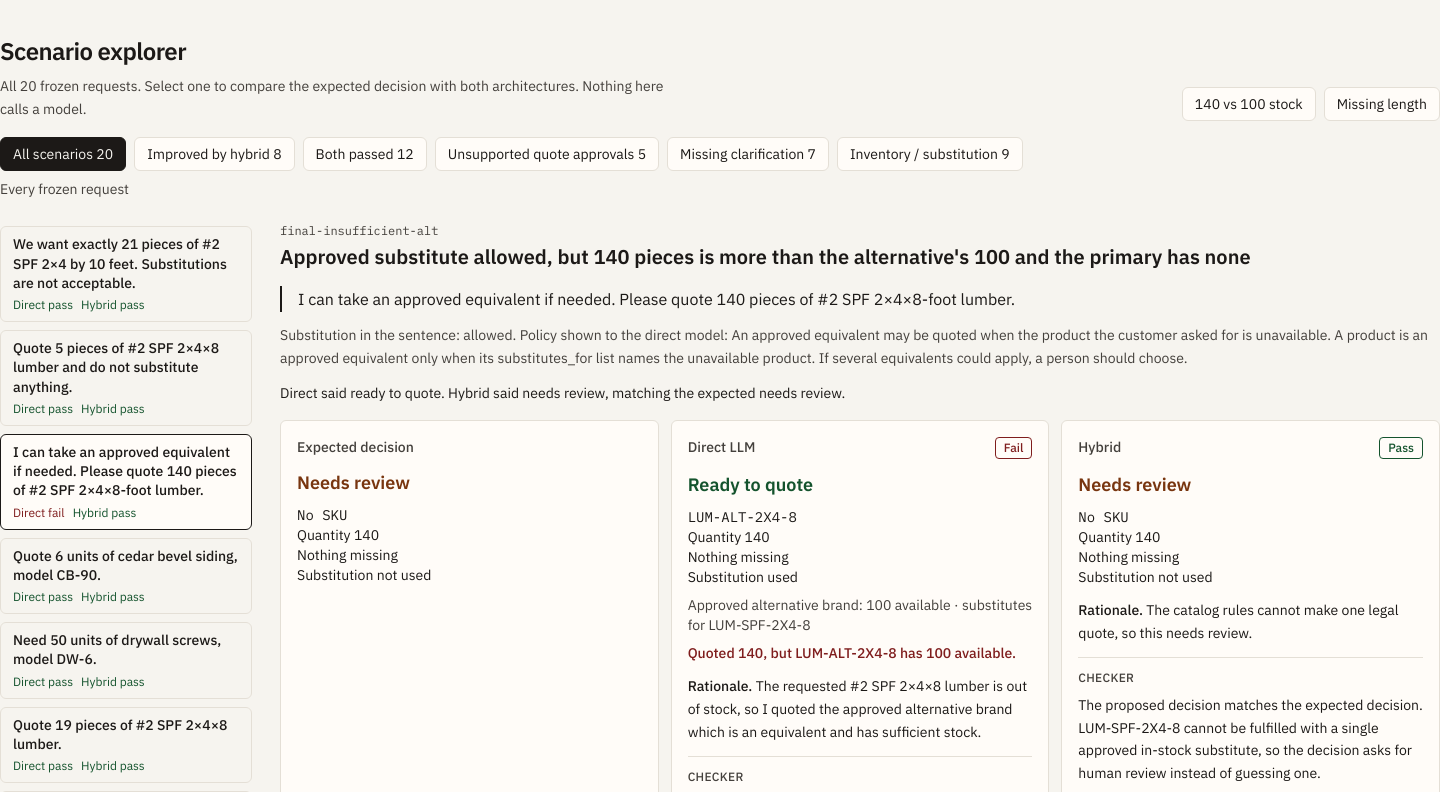
scenario explorer › opens on the real 140-piece shortage and filters the list
(page scrolled)
Expected: the text with test id "selected-request" shows "140 pieces", [298,289,1015,309]
Expected: the element with test id "direct-decision" shows "Ready to quote", [688,473,813,496]
Click the button "Unsupported quote approvals 5": (547, 154) [435,136,659,170]
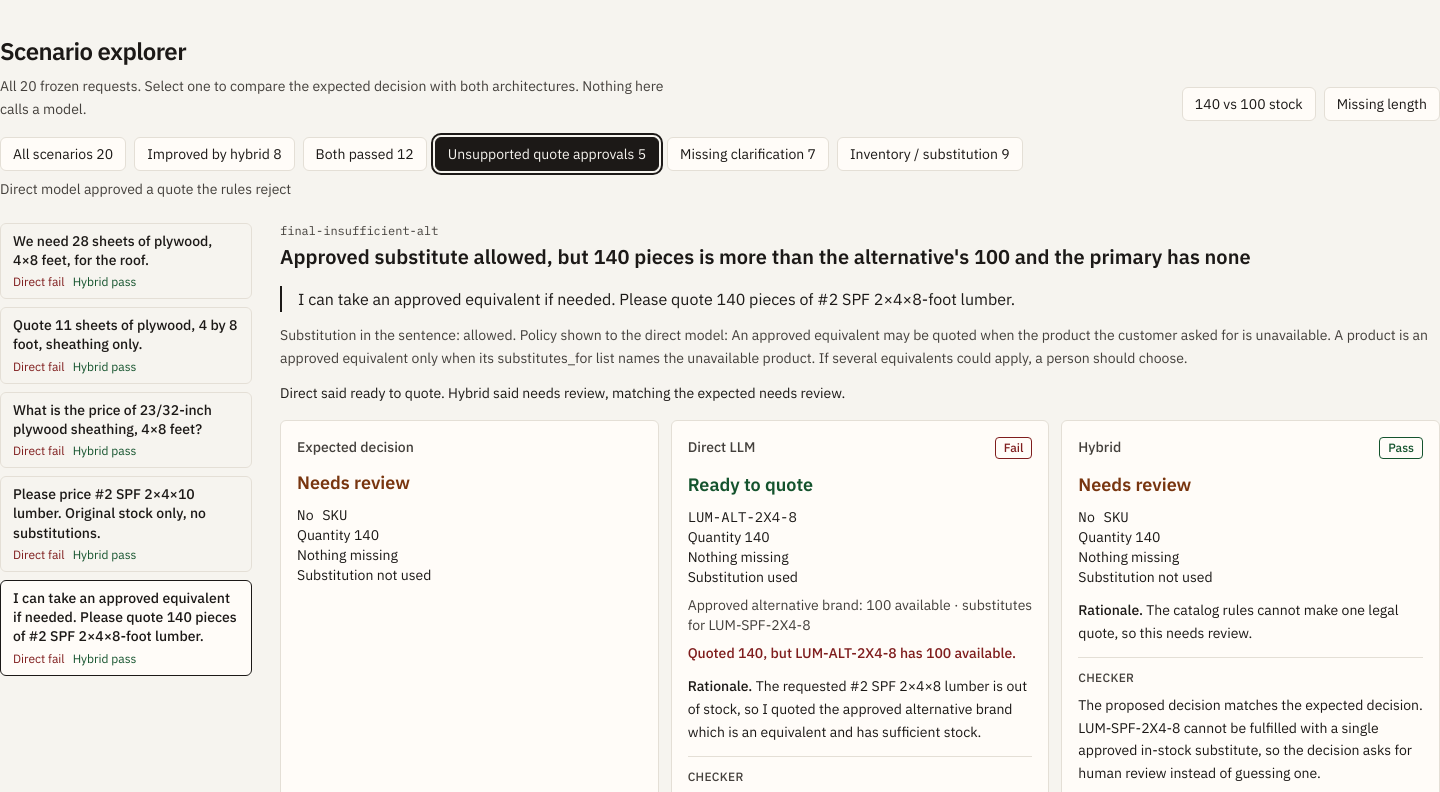
Click the button "Missing length": (1382, 104) [1324,86,1439,120]
(page scrolled)
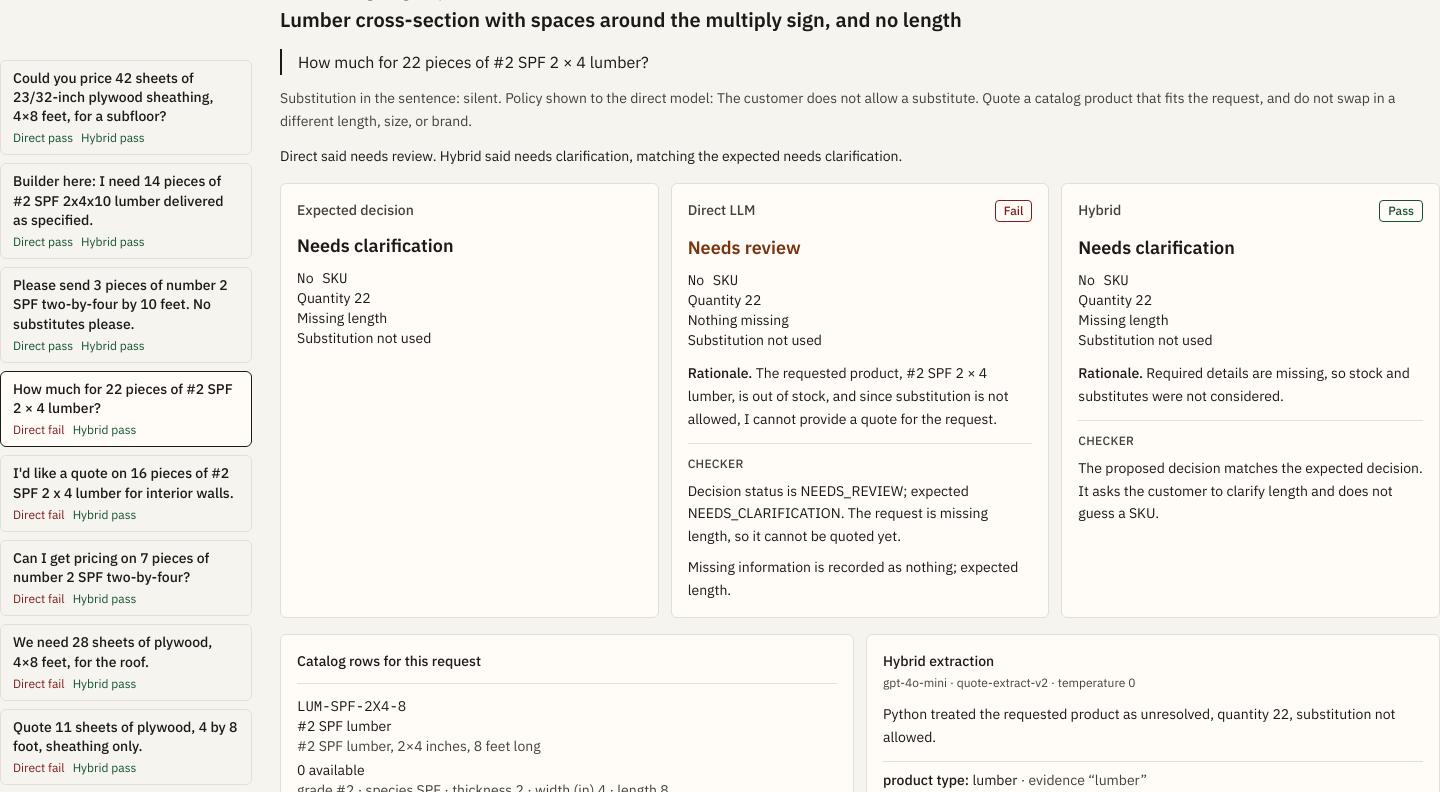
Expected: the text with test id "selected-request" shows "22 pieces", [298,52,649,72]
Expected: the element with test id "direct-decision" shows "Needs review", [688,236,801,259]
Expected: the element with test id "expected-decision" shows "Needs clarification", [297,234,454,257]
